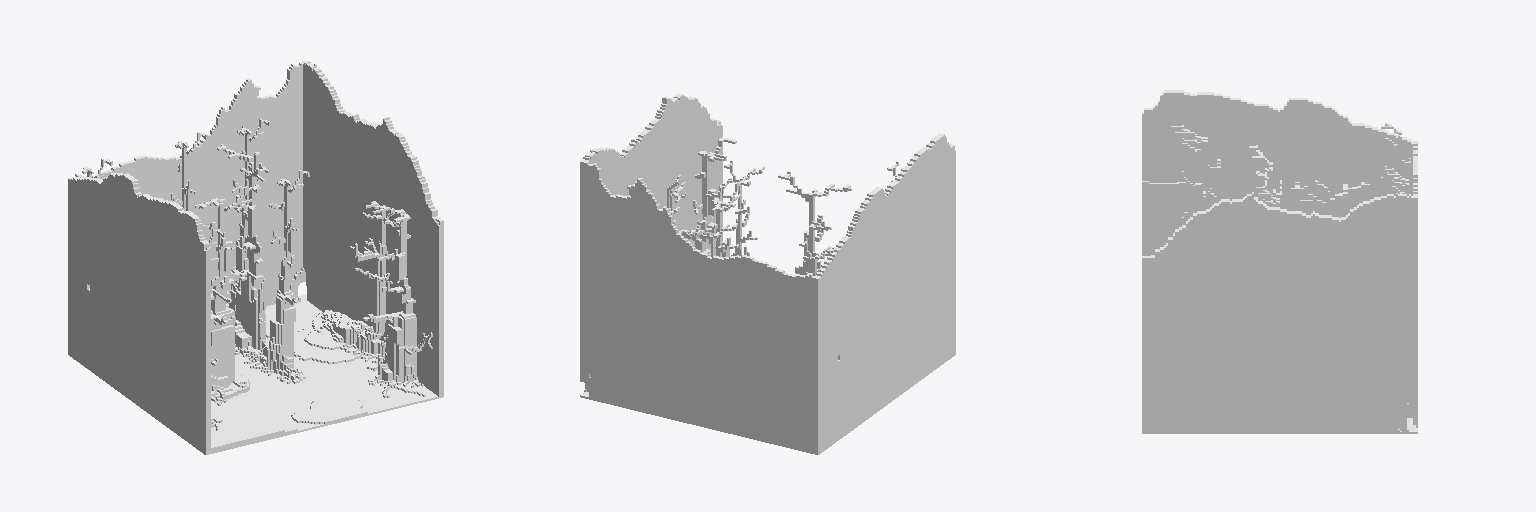
File: Trial1.obj
3 views of the same model, side by side, from view 1: azimuth 30°, elevation 25°; view 2: azimuth 150°, elevation 25°; view 3: azimuth 270°, elevation 25° (orthographic).
Size of the model in its own units: 126 by 121 by 126.